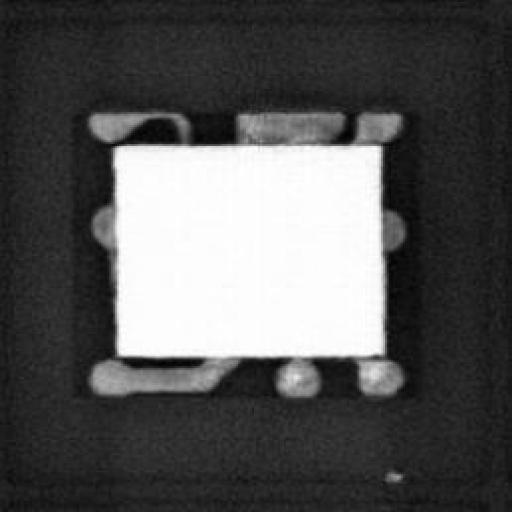DIE_INK: (379, 464, 401, 484)
